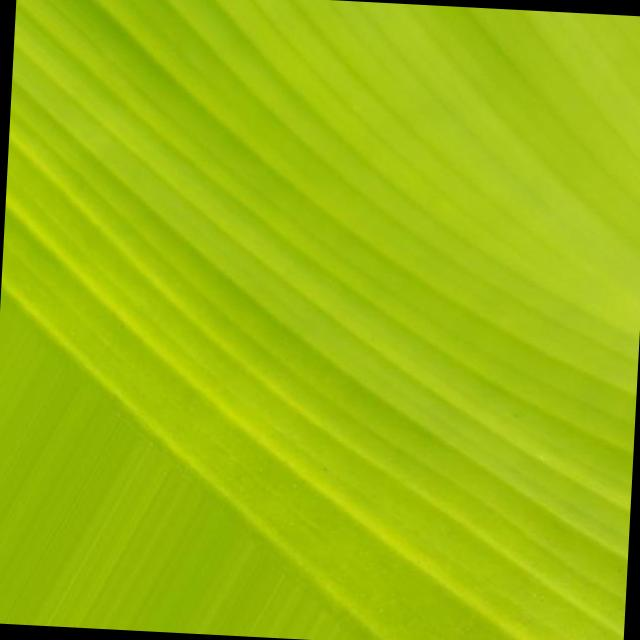Banana_Healthy: (143, 37, 636, 455)
